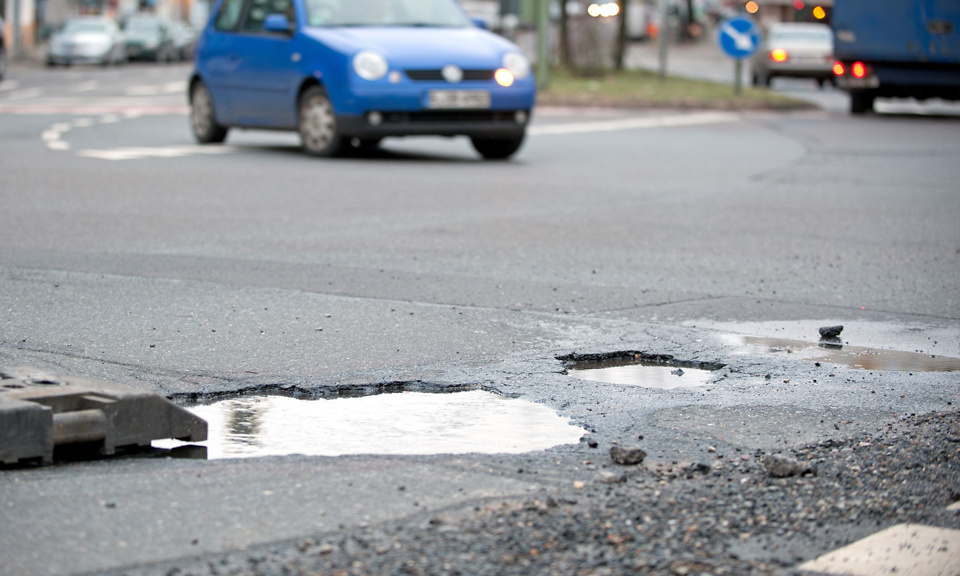pothole: (133, 354, 531, 480), (554, 342, 723, 408)
